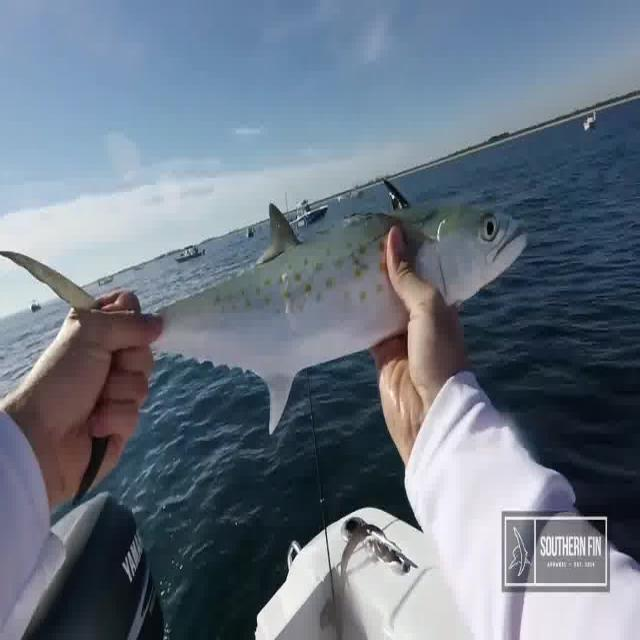Spanish Mackerel: (0, 175, 530, 510)
